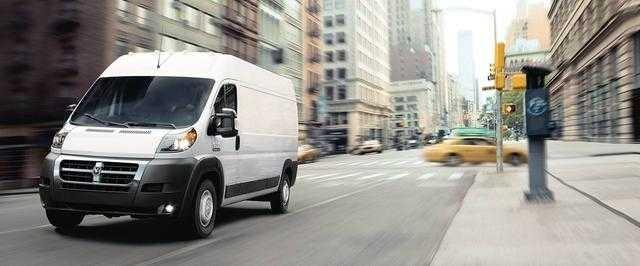car: (38, 43, 298, 234), (415, 122, 527, 170), (358, 134, 382, 157)
